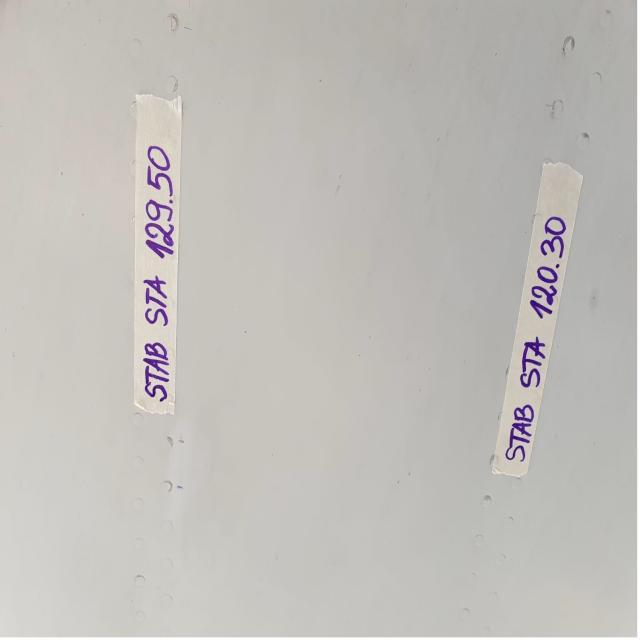crack: (164, 446, 178, 479)
